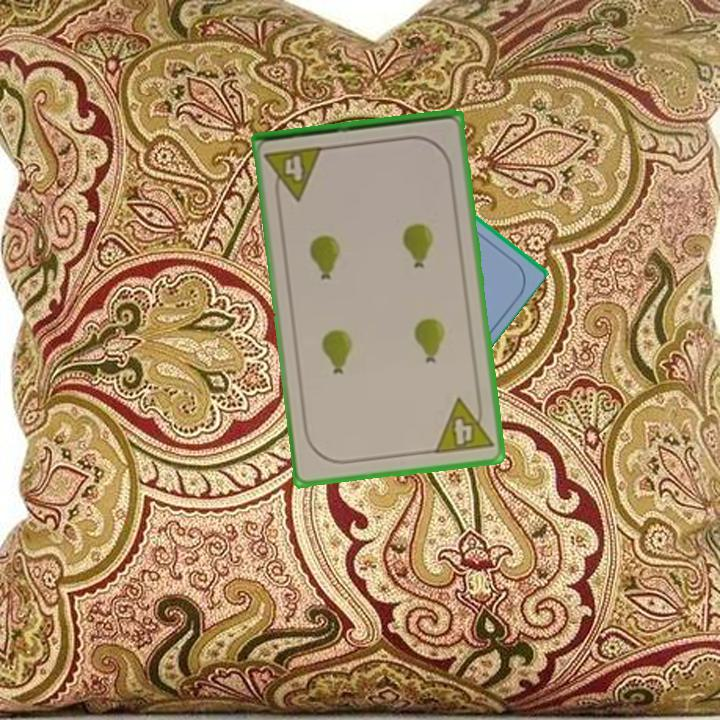4p: (431, 392, 496, 457), (261, 142, 326, 205)
